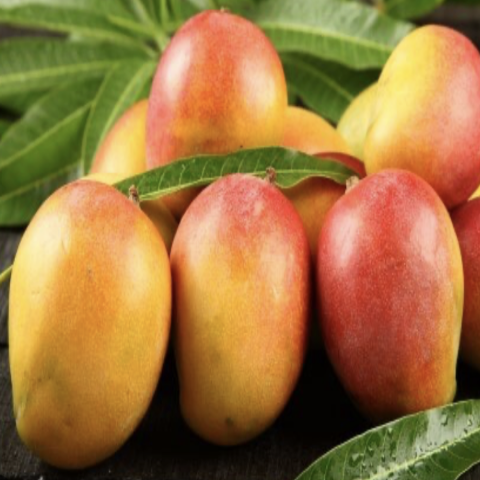mango: (3, 156, 181, 461), (306, 140, 476, 448), (164, 179, 326, 450), (133, 0, 304, 214)
